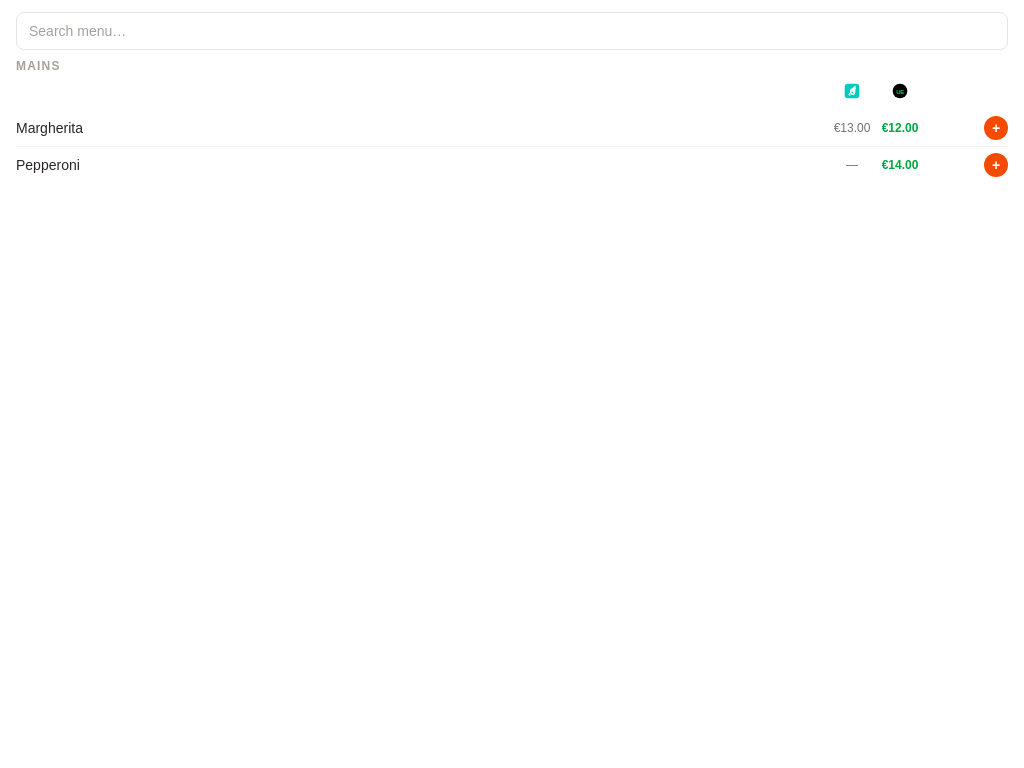
Test: MenuBrowser › opens DishModal when item name is clicked
This screenshot has width=1024, height=768.
Click the button "Margherita". click: (49, 128)
box: [16,118,824,138]
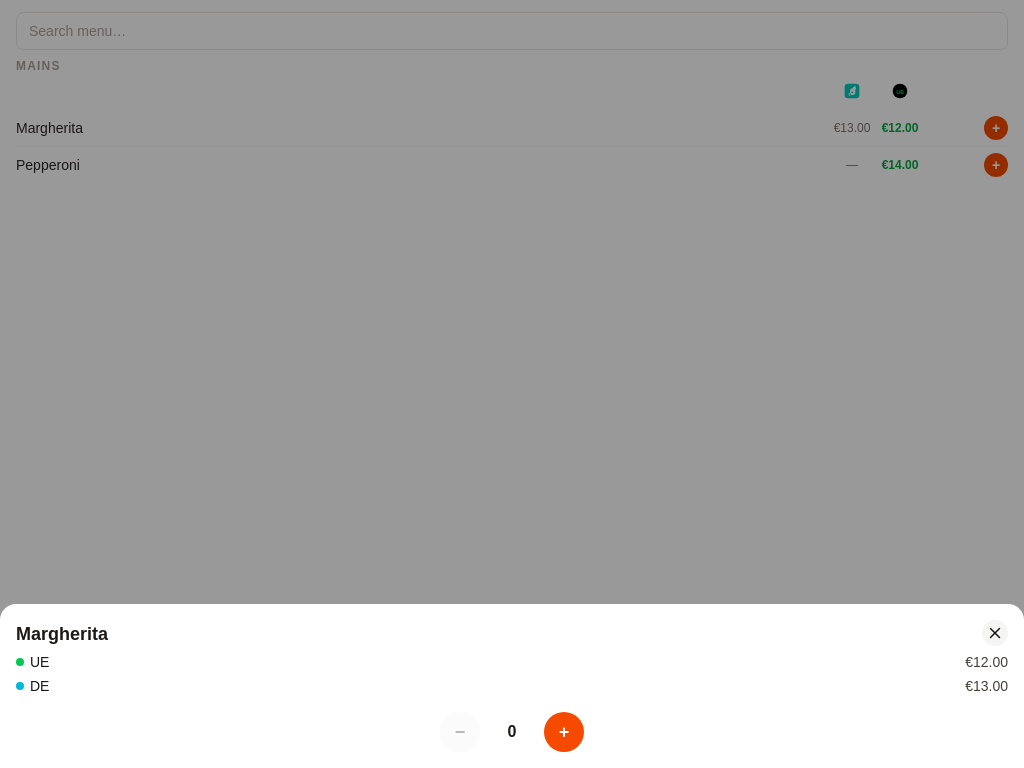
Expected: the dialog is shown
Expected: the heading "Margherita" is shown, [16,624,108,644]
